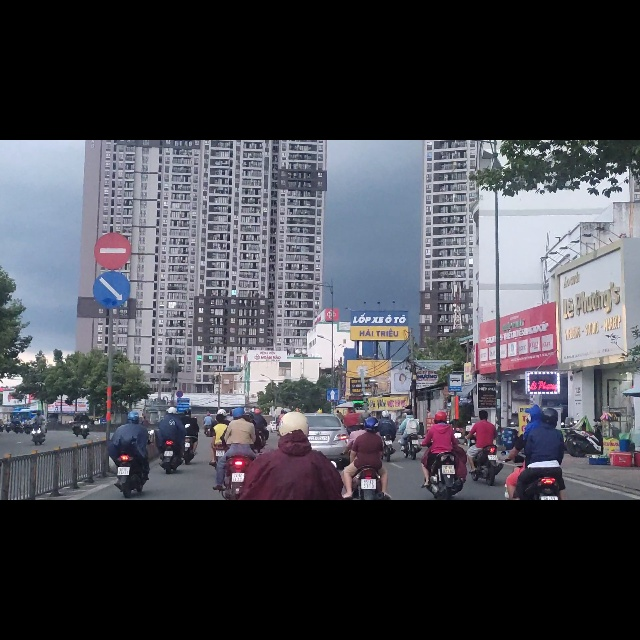bien_hieu_lenh: (92, 230, 131, 302), (95, 162, 132, 232), (448, 414, 463, 448), (326, 441, 338, 463)
